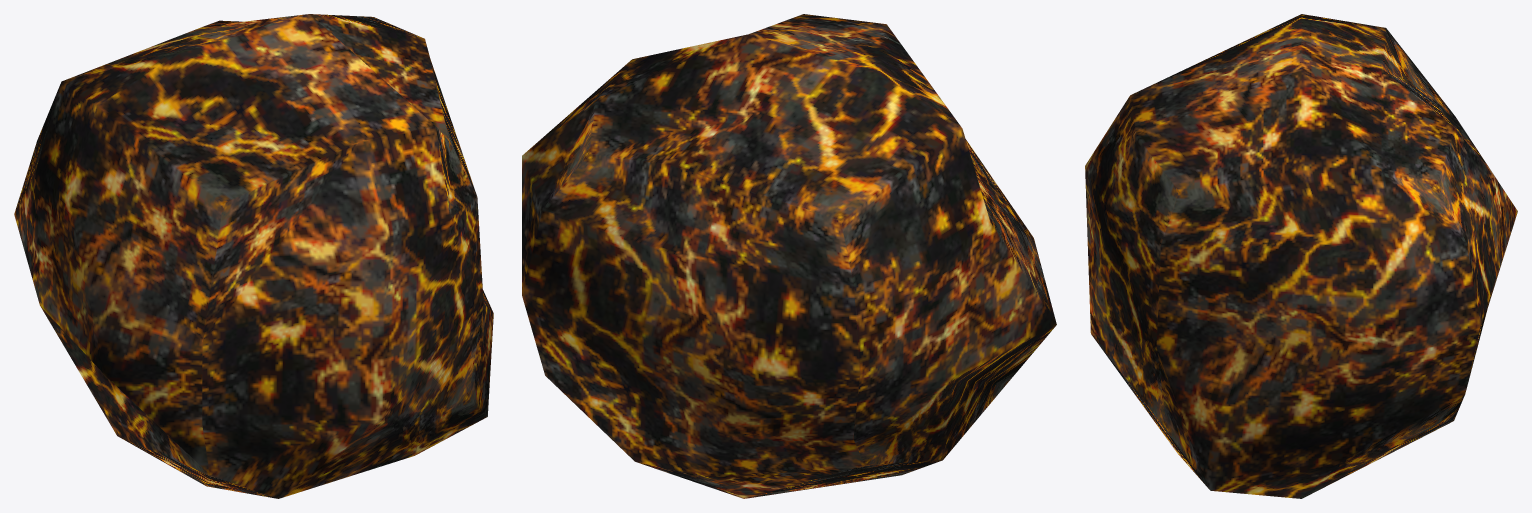
File: asteroid_moltenrock_large_s02_l3.fbx
3 views of the same model, side by side, from view 1: azimuth 30°, elevation 25°; view 2: azimuth 150°, elevation 25°; view 3: azimuth 270°, elevation 25° (orthographic). The views are drawn at different scales.
Parts seen in each view (by area): view 1: mesh_node; view 2: mesh_node; view 3: mesh_node.
Part boxes in pixels (bbox=[...]): mesh_node: bbox=[14, 14, 493, 498]; mesh_node: bbox=[522, 14, 1056, 498]; mesh_node: bbox=[1085, 14, 1517, 498].
Bounding box in the file's own units: 114 × 113 × 109.
